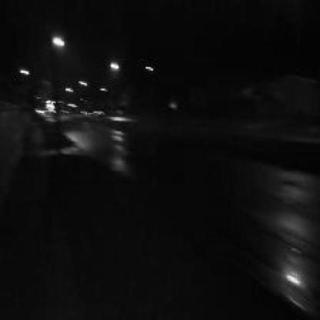other: (106, 101, 132, 172), (286, 268, 308, 292), (101, 57, 123, 75)
